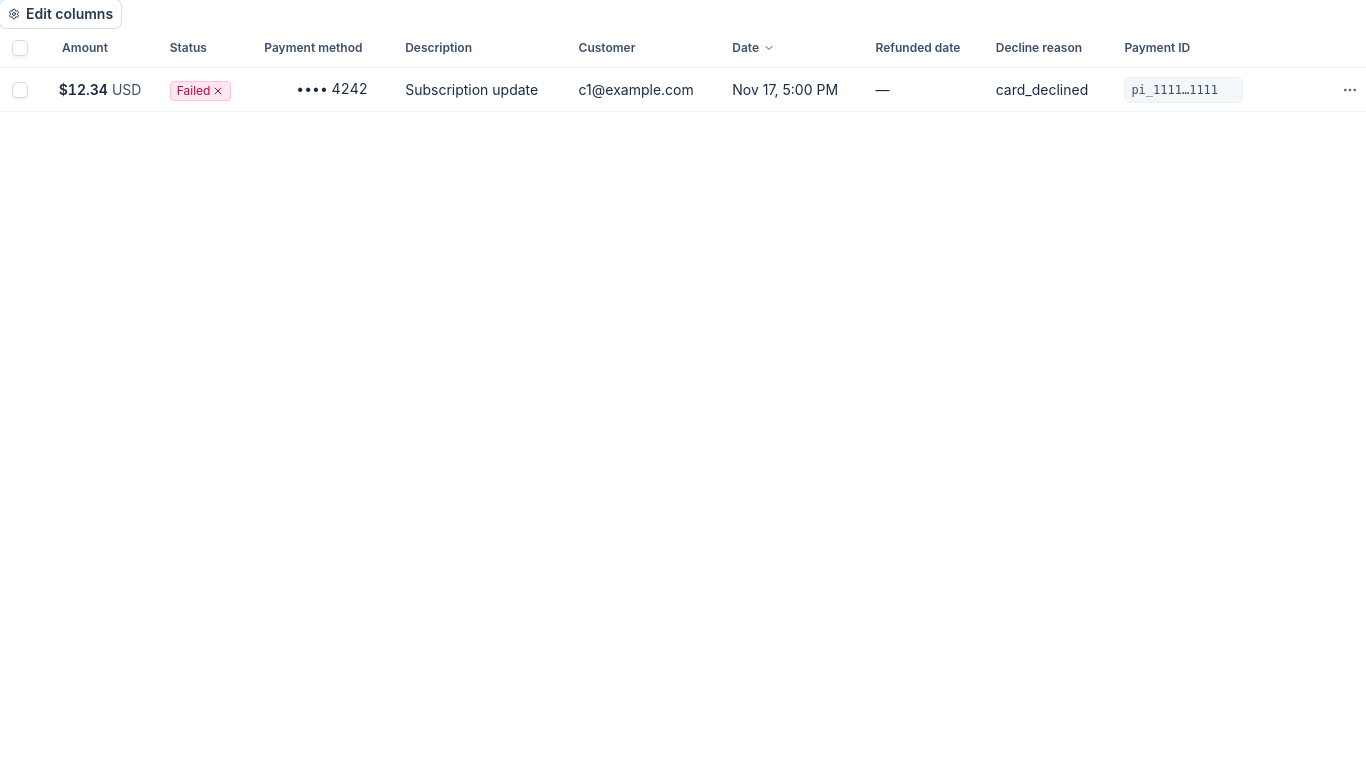
Test case: Edit columns › opens a labelled panel with the title, switch, Columns label and reset button
Click the button "Edit columns" at (61, 14), box [0,0,121,28]
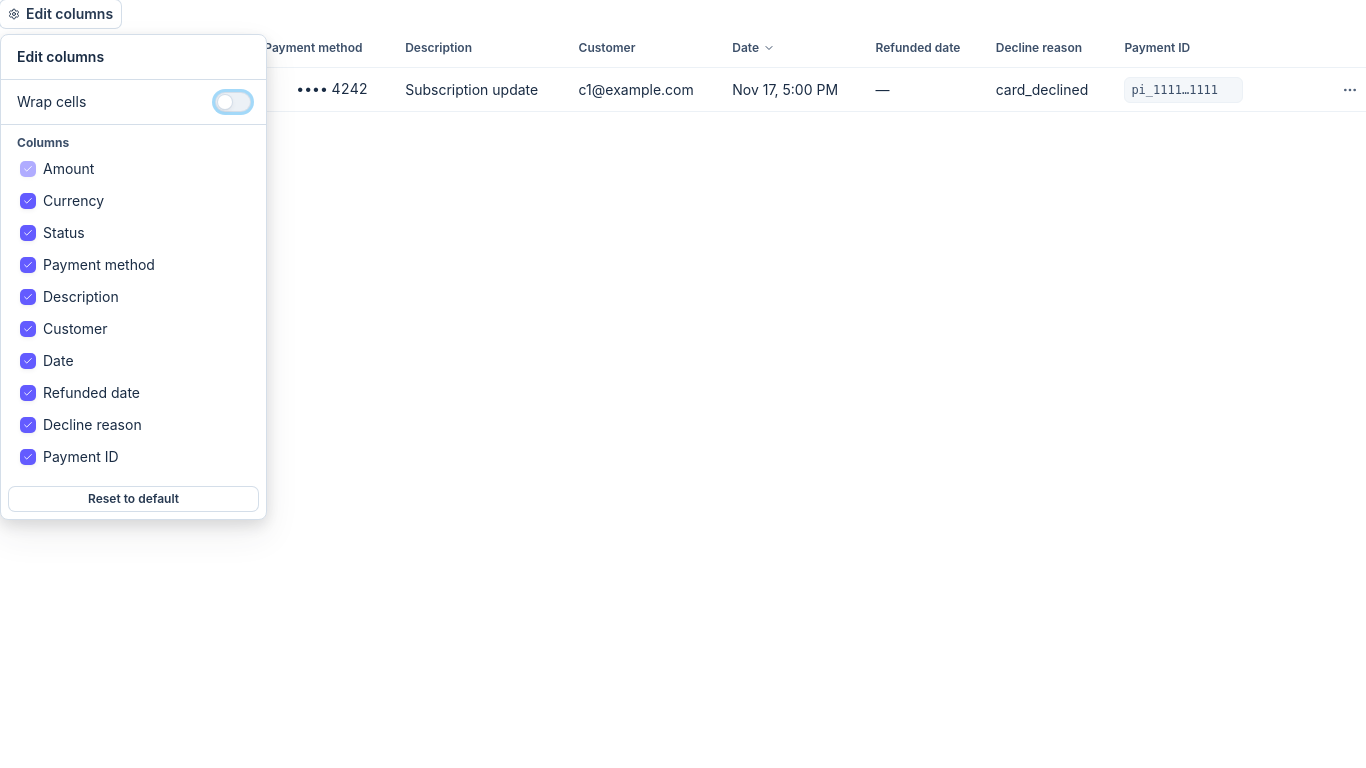
Expected: the dialog "Edit columns" is shown, [0,34,267,520]
Expected: the element "Columns" is shown, [17,135,155,465]
Expected: the button "Reset to default" is shown, [9,487,258,511]
